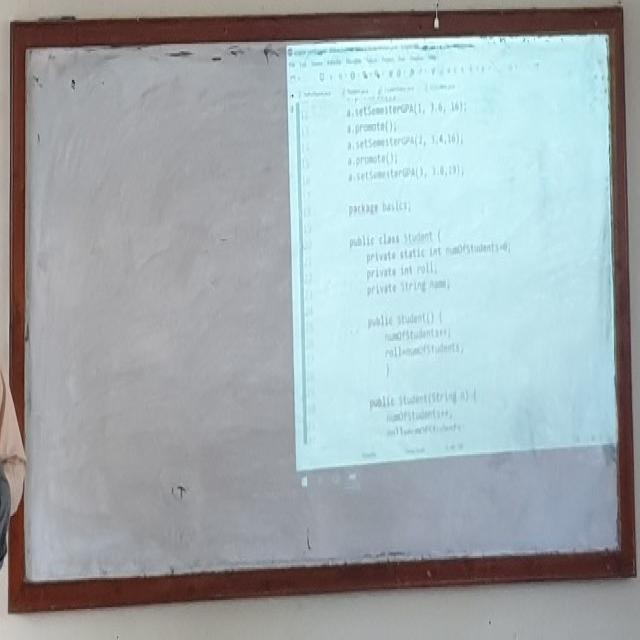Slide: (285, 35, 618, 500)
White-board: (12, 28, 626, 596)
